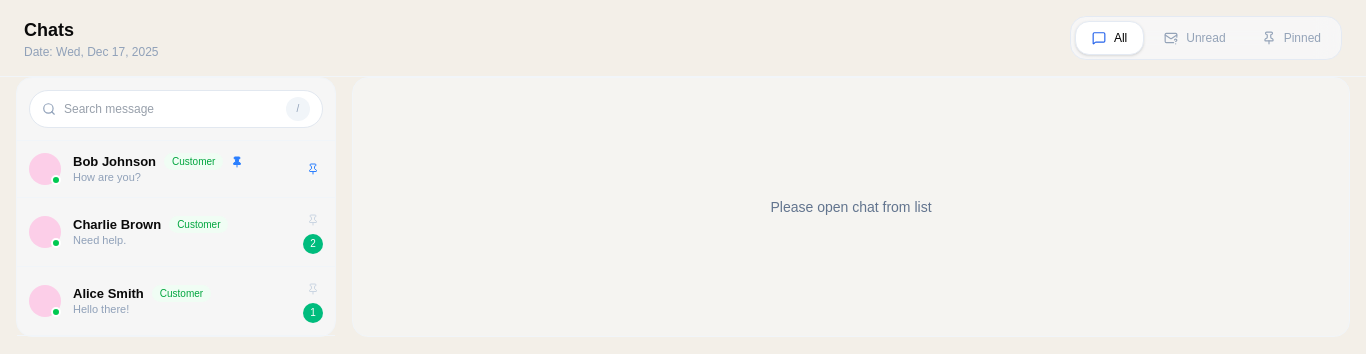
ChatsPage › shows no chats when search query does not match any chat
Expected: the text "Alice Smith" is shown, [73,285,144,302]
Type "nonexistent" into the field with placeholder "Search message" at (171, 109), box [64,101,278,117]
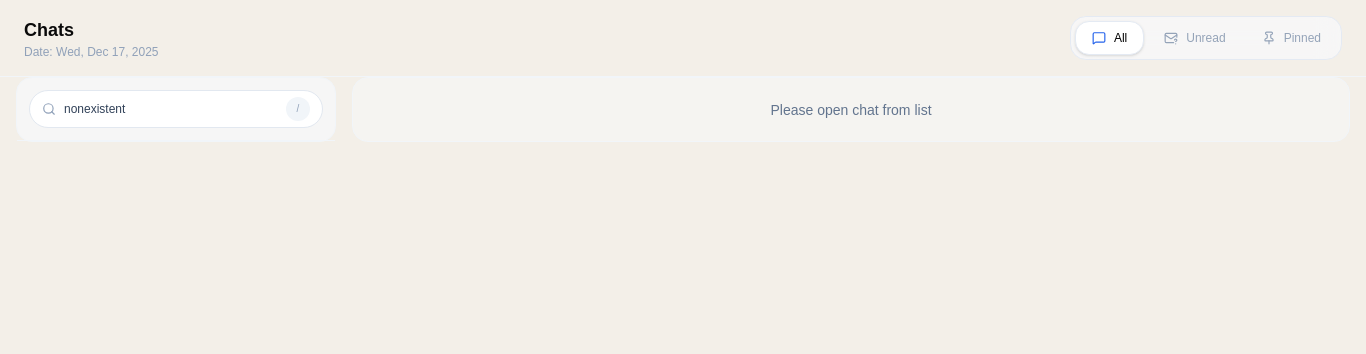
Expected: the text "Alice Smith" is gone
Expected: the text "Bob Johnson" is gone
Expected: the text "Charlie Brown" is gone
